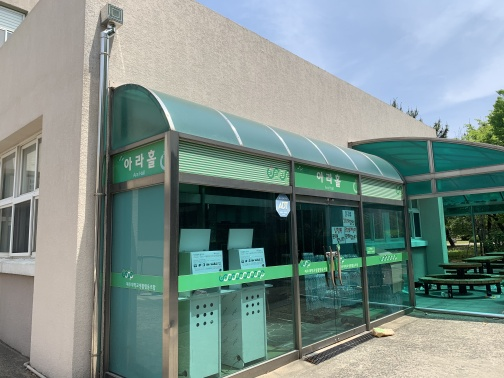Ara Hall: (11, 55, 502, 365)
